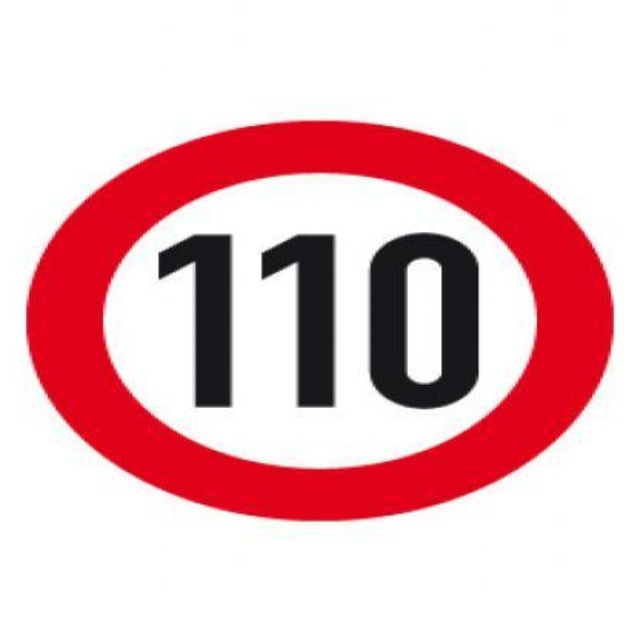Tốc độ tối đa cho phép 110km/h: (33, 119, 614, 521)
